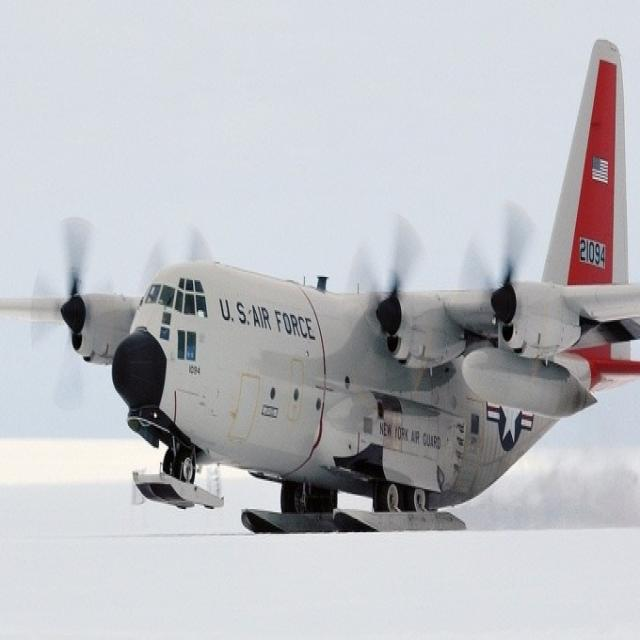C130: (38, 37, 640, 562)
